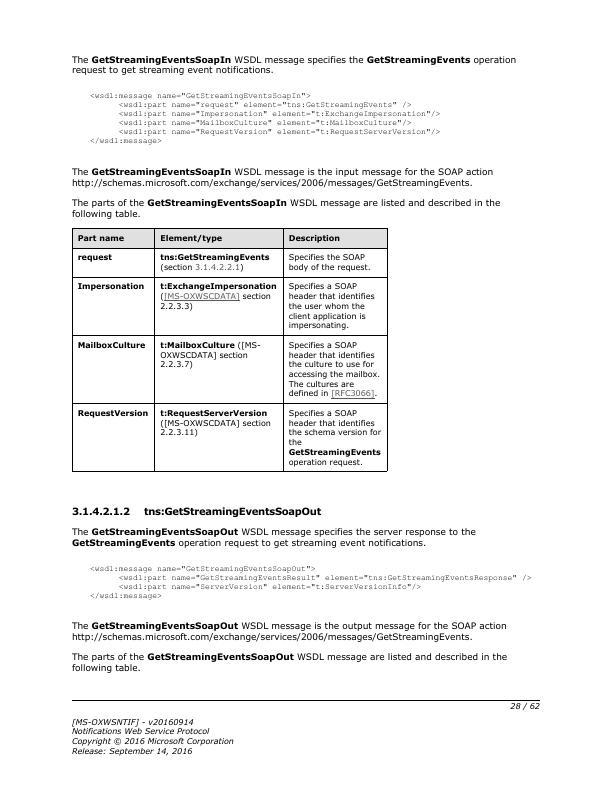table: (68, 226, 391, 475)
text: (81, 88, 450, 150), (87, 561, 538, 606), (68, 647, 510, 676), (68, 616, 509, 644), (68, 194, 502, 221), (70, 165, 497, 190), (68, 54, 523, 77), (68, 526, 482, 549), (67, 714, 238, 759), (68, 504, 326, 521)
